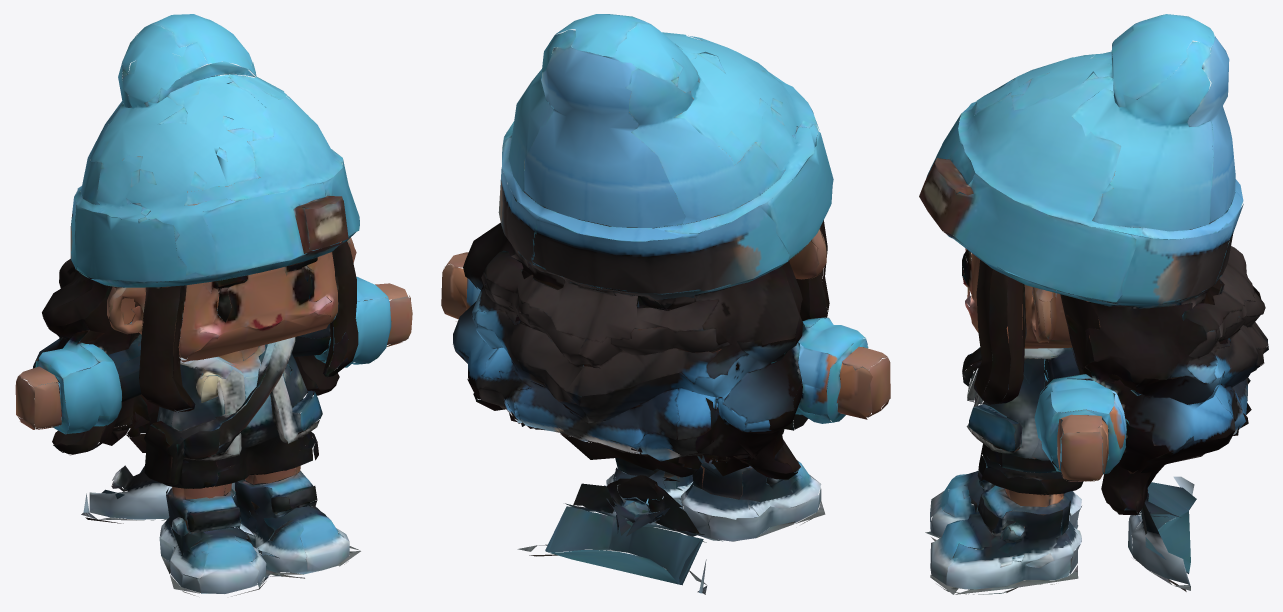
The model's file is zen_final.glb.
The picture shows the model from 3 angles, left to right: view 1: azimuth 30°, elevation 25°; view 2: azimuth 150°, elevation 25°; view 3: azimuth 270°, elevation 25°; orthographic projection. The views are drawn at different scales.
Visible parts, largest first — view 1: Body; view 2: Body; view 3: Body.
Part boxes in pixels (x1,y1,x2,y2): Body: (15,14,412,596); Body: (441,14,890,594); Body: (919,14,1268,594).
Bounding box in the file's own units: 0.6 × 0.72 × 0.4261.
1 material, 1 textured.
